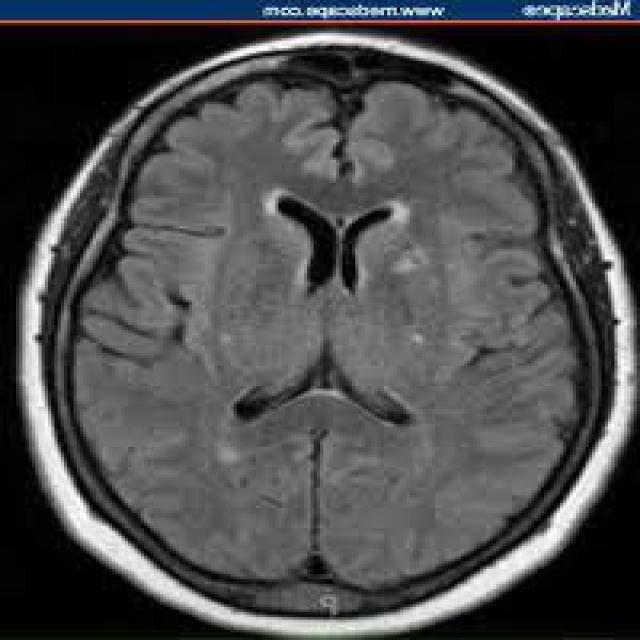notumor: (22, 30, 634, 635)
